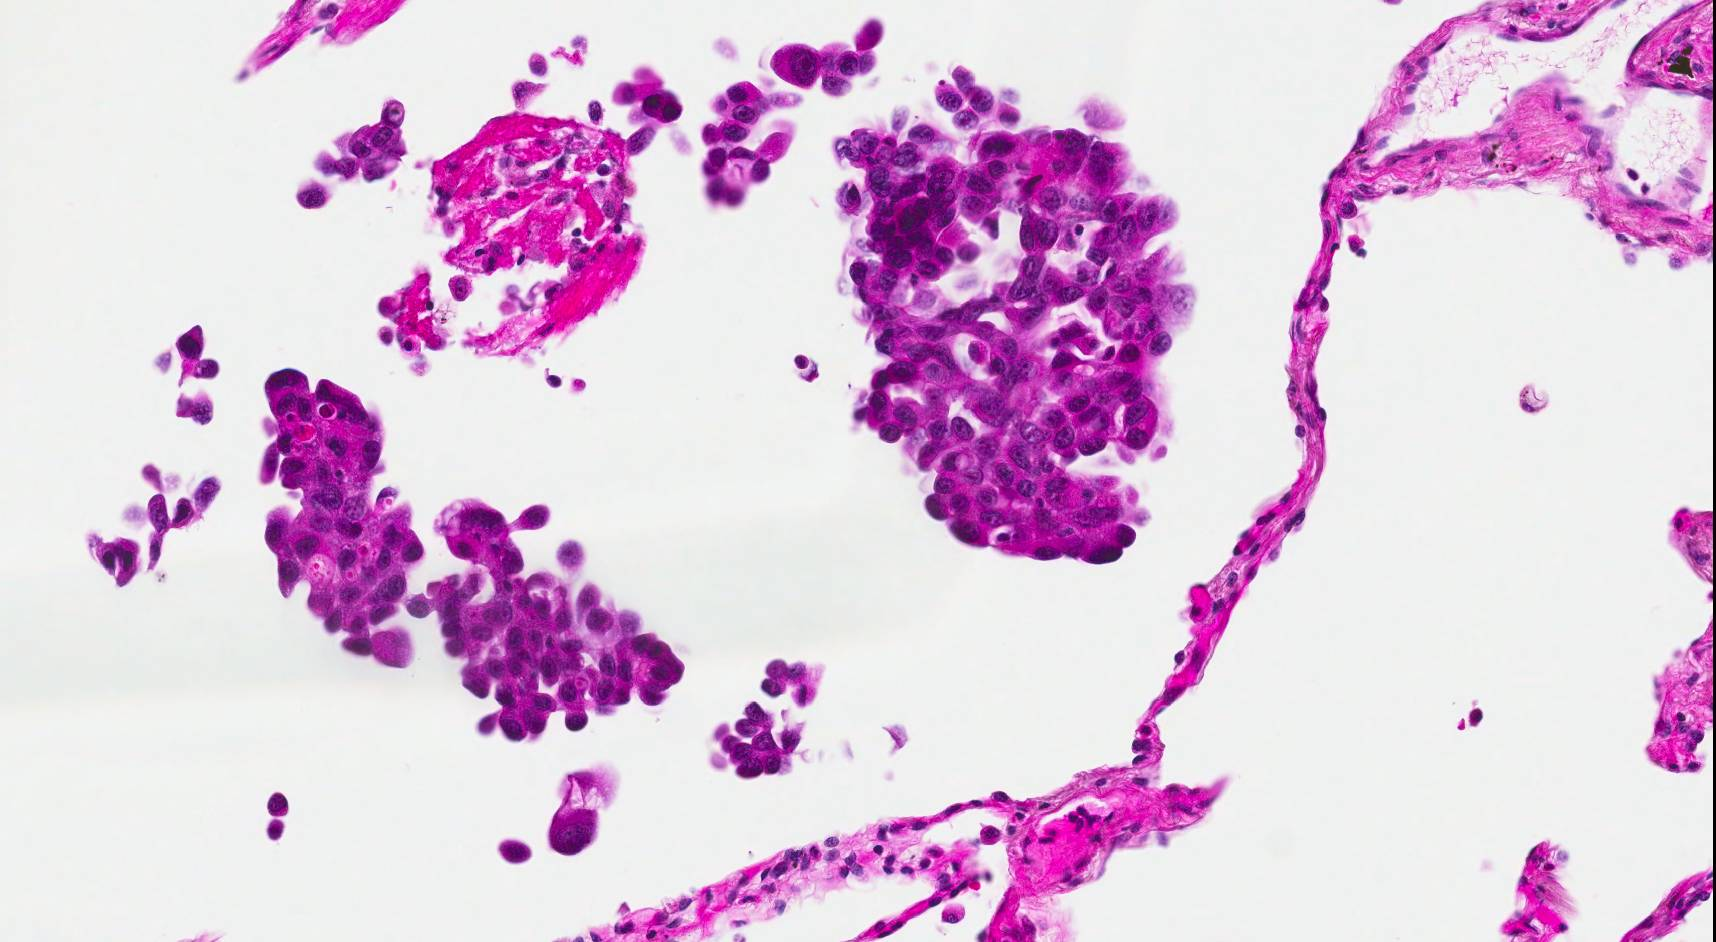stas: (825, 62, 1199, 574), (407, 494, 690, 744), (253, 366, 417, 671), (79, 463, 219, 590), (707, 656, 827, 781), (696, 79, 808, 210), (294, 96, 413, 209), (766, 13, 888, 95), (545, 769, 625, 858), (156, 326, 221, 427)
